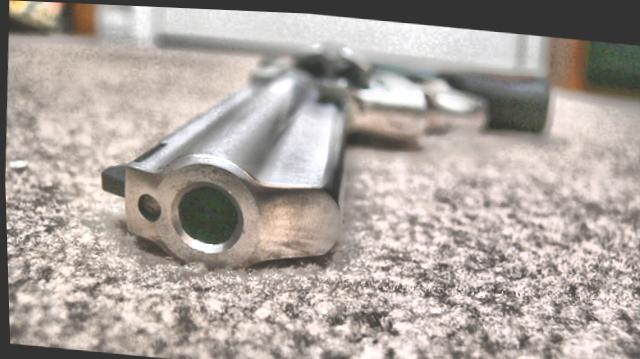pistol: (80, 23, 555, 284)
